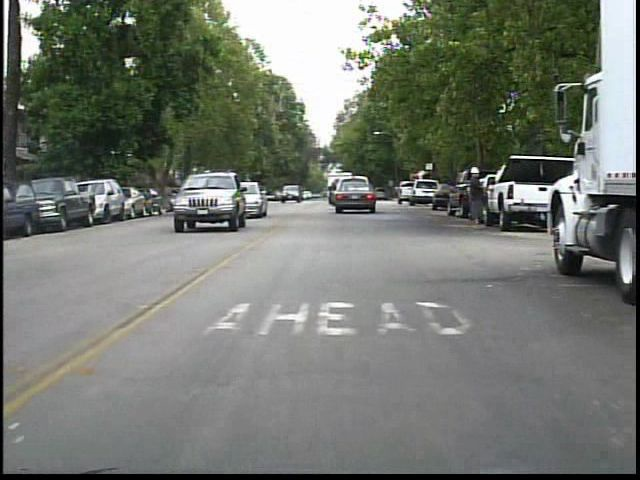person: (461, 163, 492, 233)
